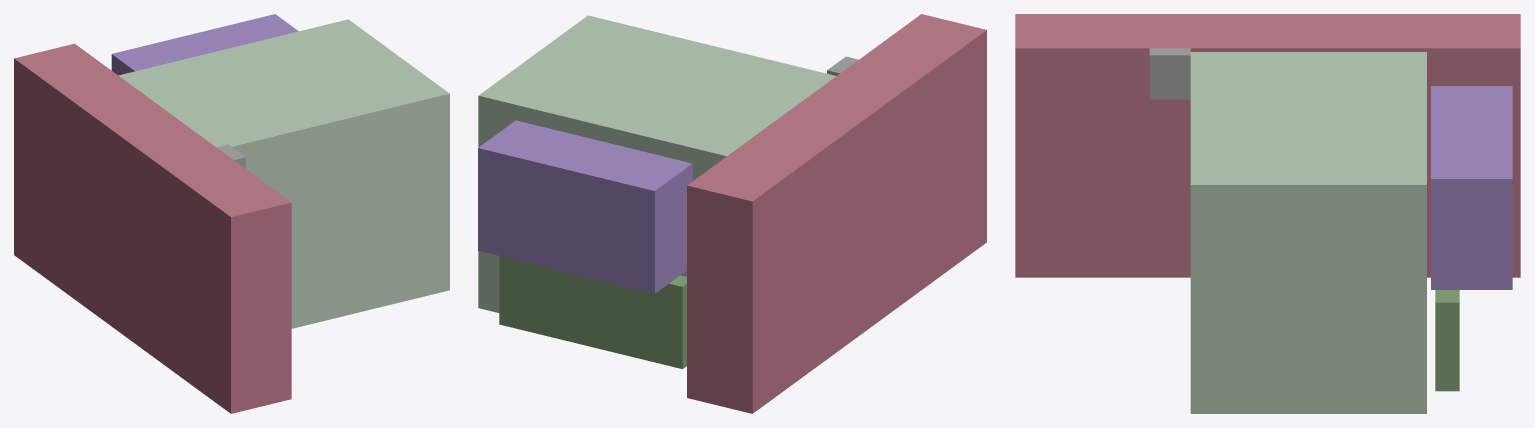
File: 199517_pred.glb
3 views of the same model, side by side, from view 1: azimuth 30°, elevation 25°; view 2: azimuth 150°, elevation 25°; view 3: azimuth 270°, elevation 25° (orthographic). The views are drawn at different scales.
Parts seen in each view (by area): view 1: world; view 2: world; view 3: world.
Boxes of the visible parts, x1,y1,x2,y2 form: world: (14, 14, 449, 413); world: (478, 14, 986, 413); world: (1015, 14, 1520, 413).
Bounding box in the file's own units: 4.85 × 3.15 × 6.2.
